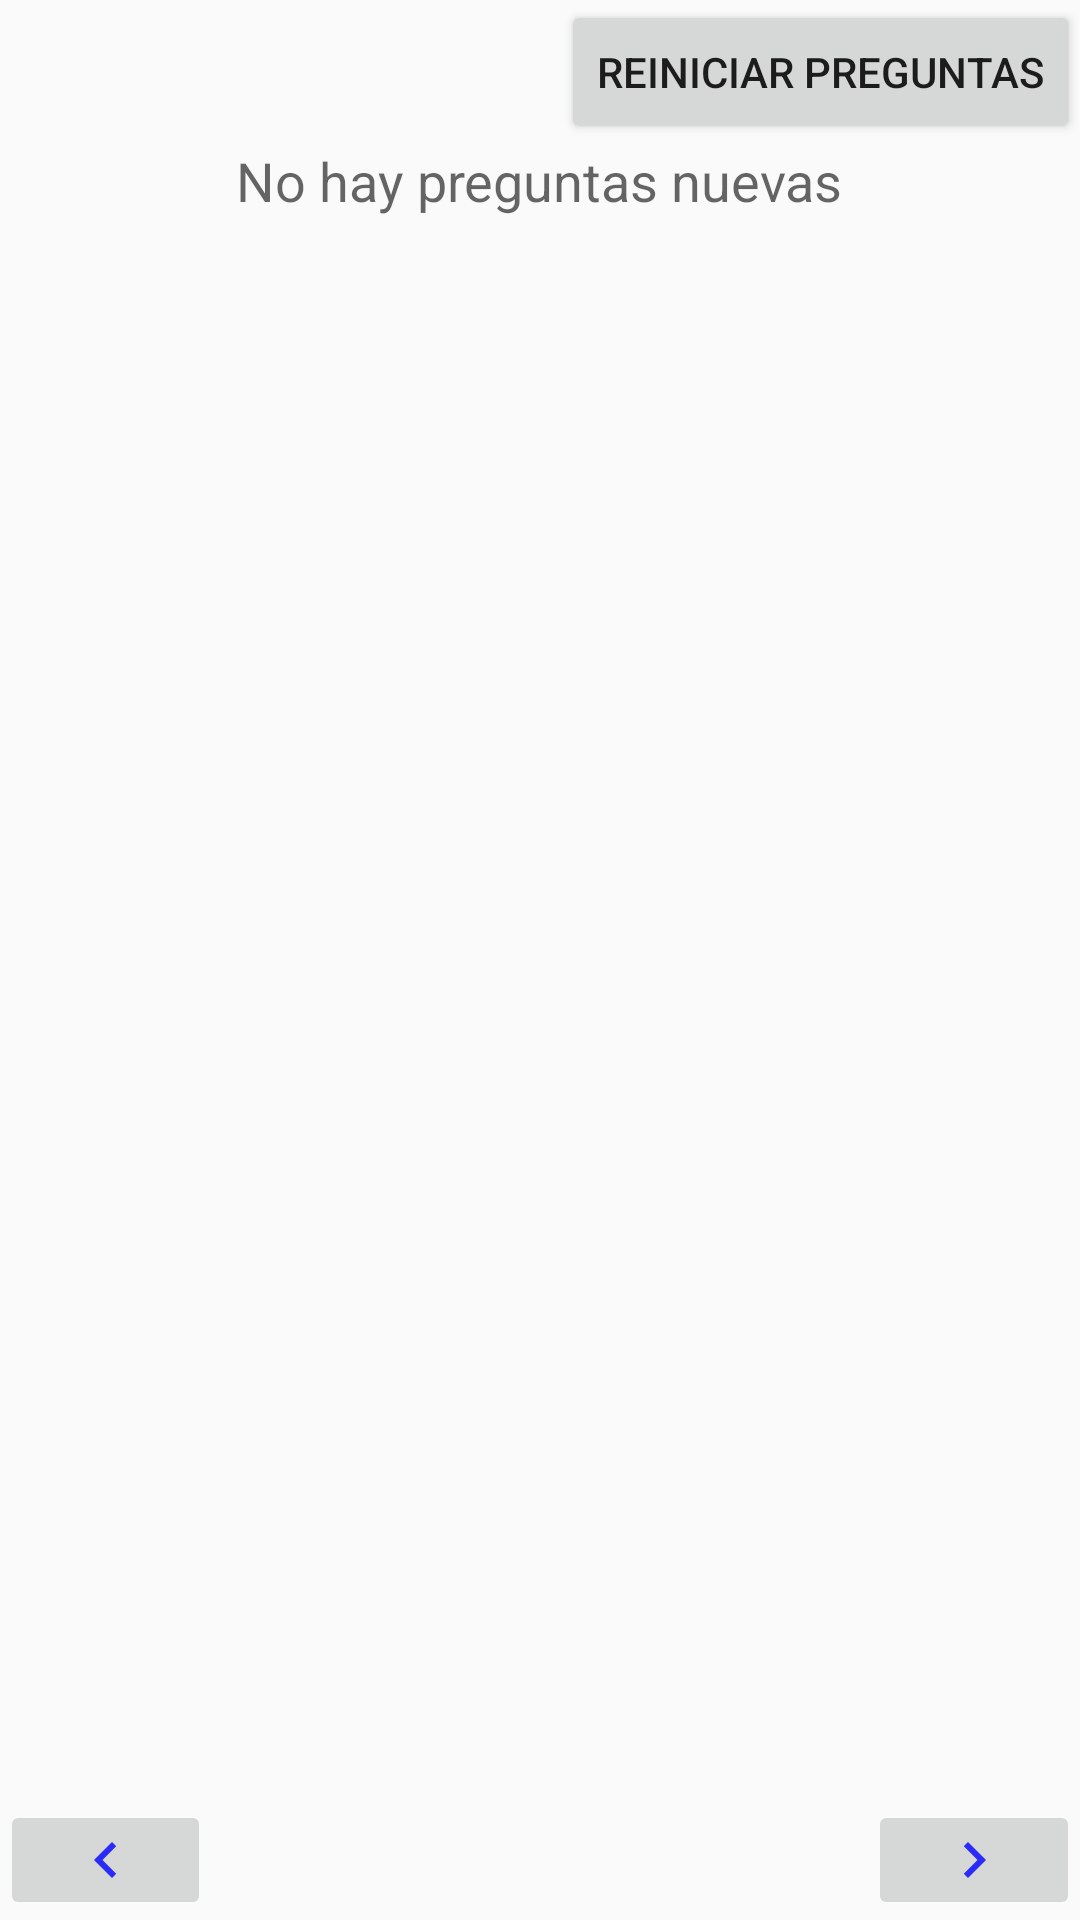

Where to tap for icons on this 1080*1920 app screen, as (x=x, y=y):
left: (x=105, y=1860)
right: (x=974, y=1860)
